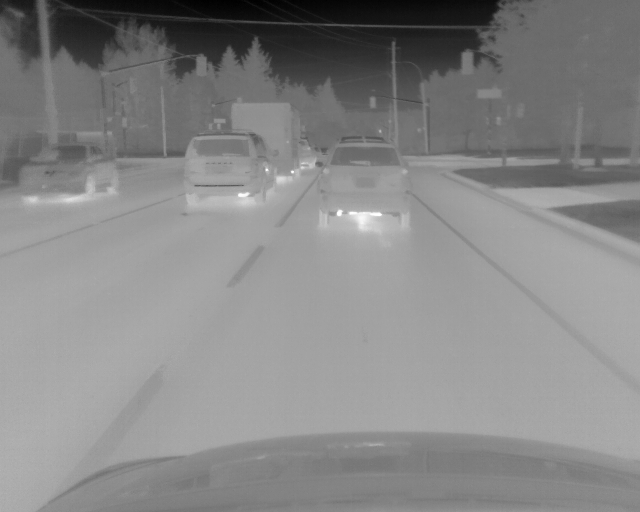car: (316, 135, 410, 229), (183, 130, 276, 210), (18, 143, 118, 201), (229, 101, 301, 181), (299, 137, 318, 173)
